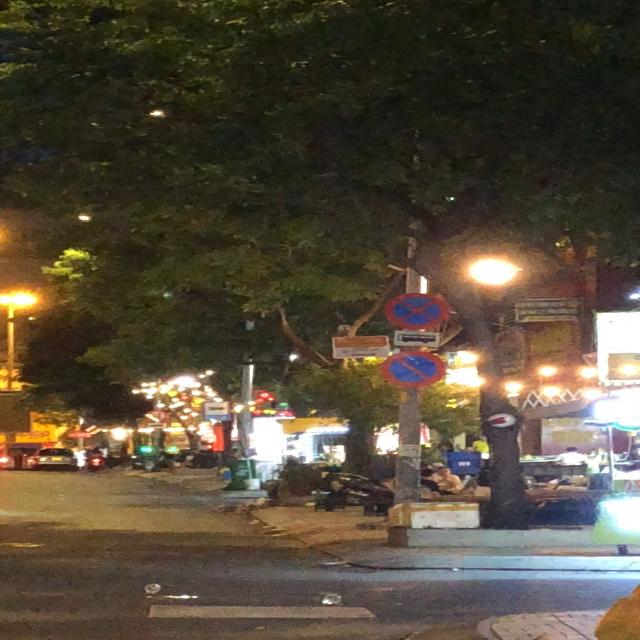Bien bao cam do xe: (377, 350, 452, 390)
Bien bao cam dung xe va do xe: (382, 291, 460, 333)
